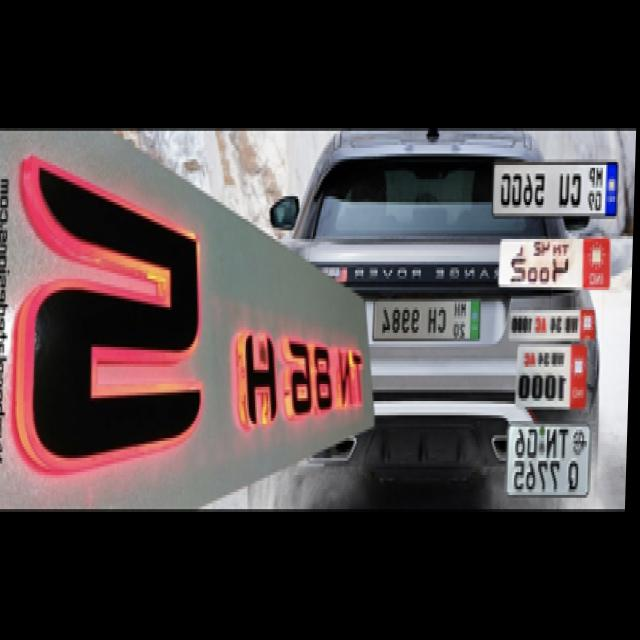licence: (374, 296, 488, 347)
